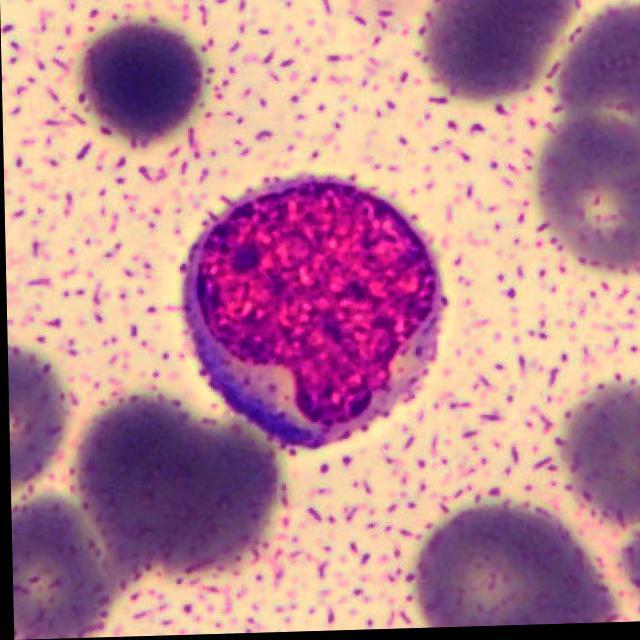Mieloblasto: (180, 181, 445, 452)
